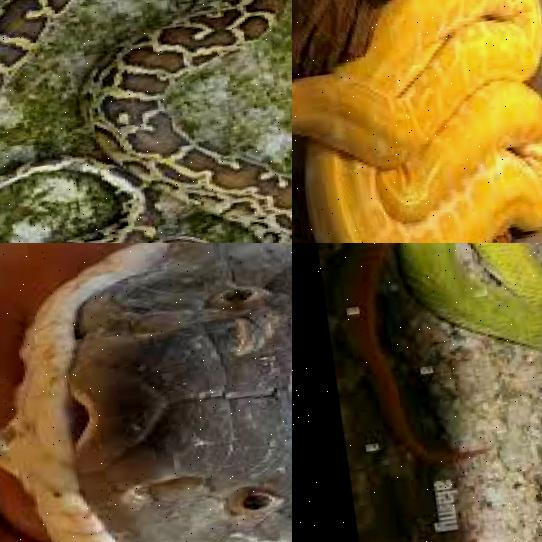4: (368, 243, 542, 542)
5: (0, 243, 292, 542)
snake: (0, 0, 292, 243), (292, 0, 542, 243)
